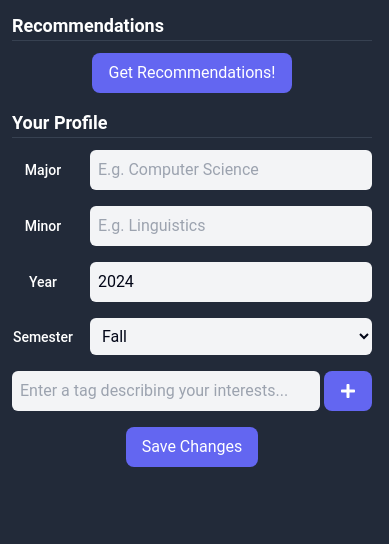
Test: Home › adds and removes tags
Type "Machine Learning" into the field with placeholder "Enter a tag describing your interests..." at [166, 391], box [12,371,320,411]
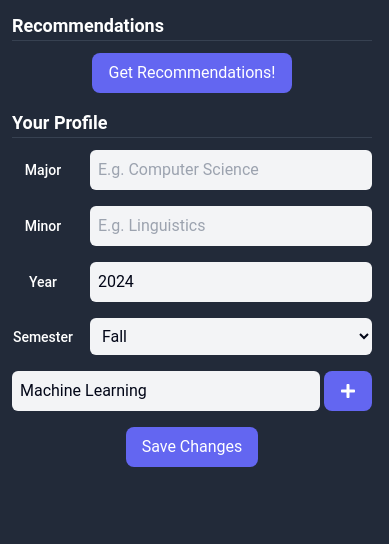
Click the button named "add-tag" at [348, 391], box [324,371,372,411]
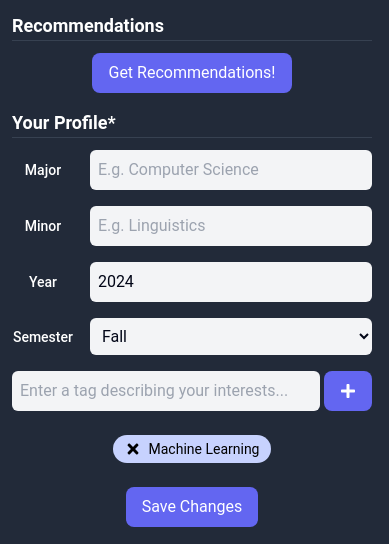
expect the text "Machine Learning" is shown: met, box [148,439,260,459]
Click the icon next to "Machine Learning" at [132, 449], box [124,441,140,457]
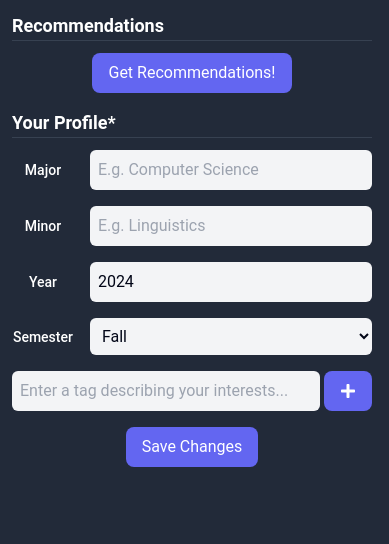
expect the text "Machine Learning" is gone: met
